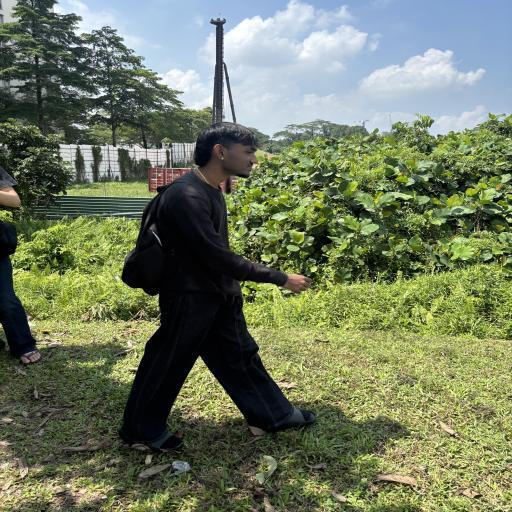person_right: (106, 106, 324, 468)
